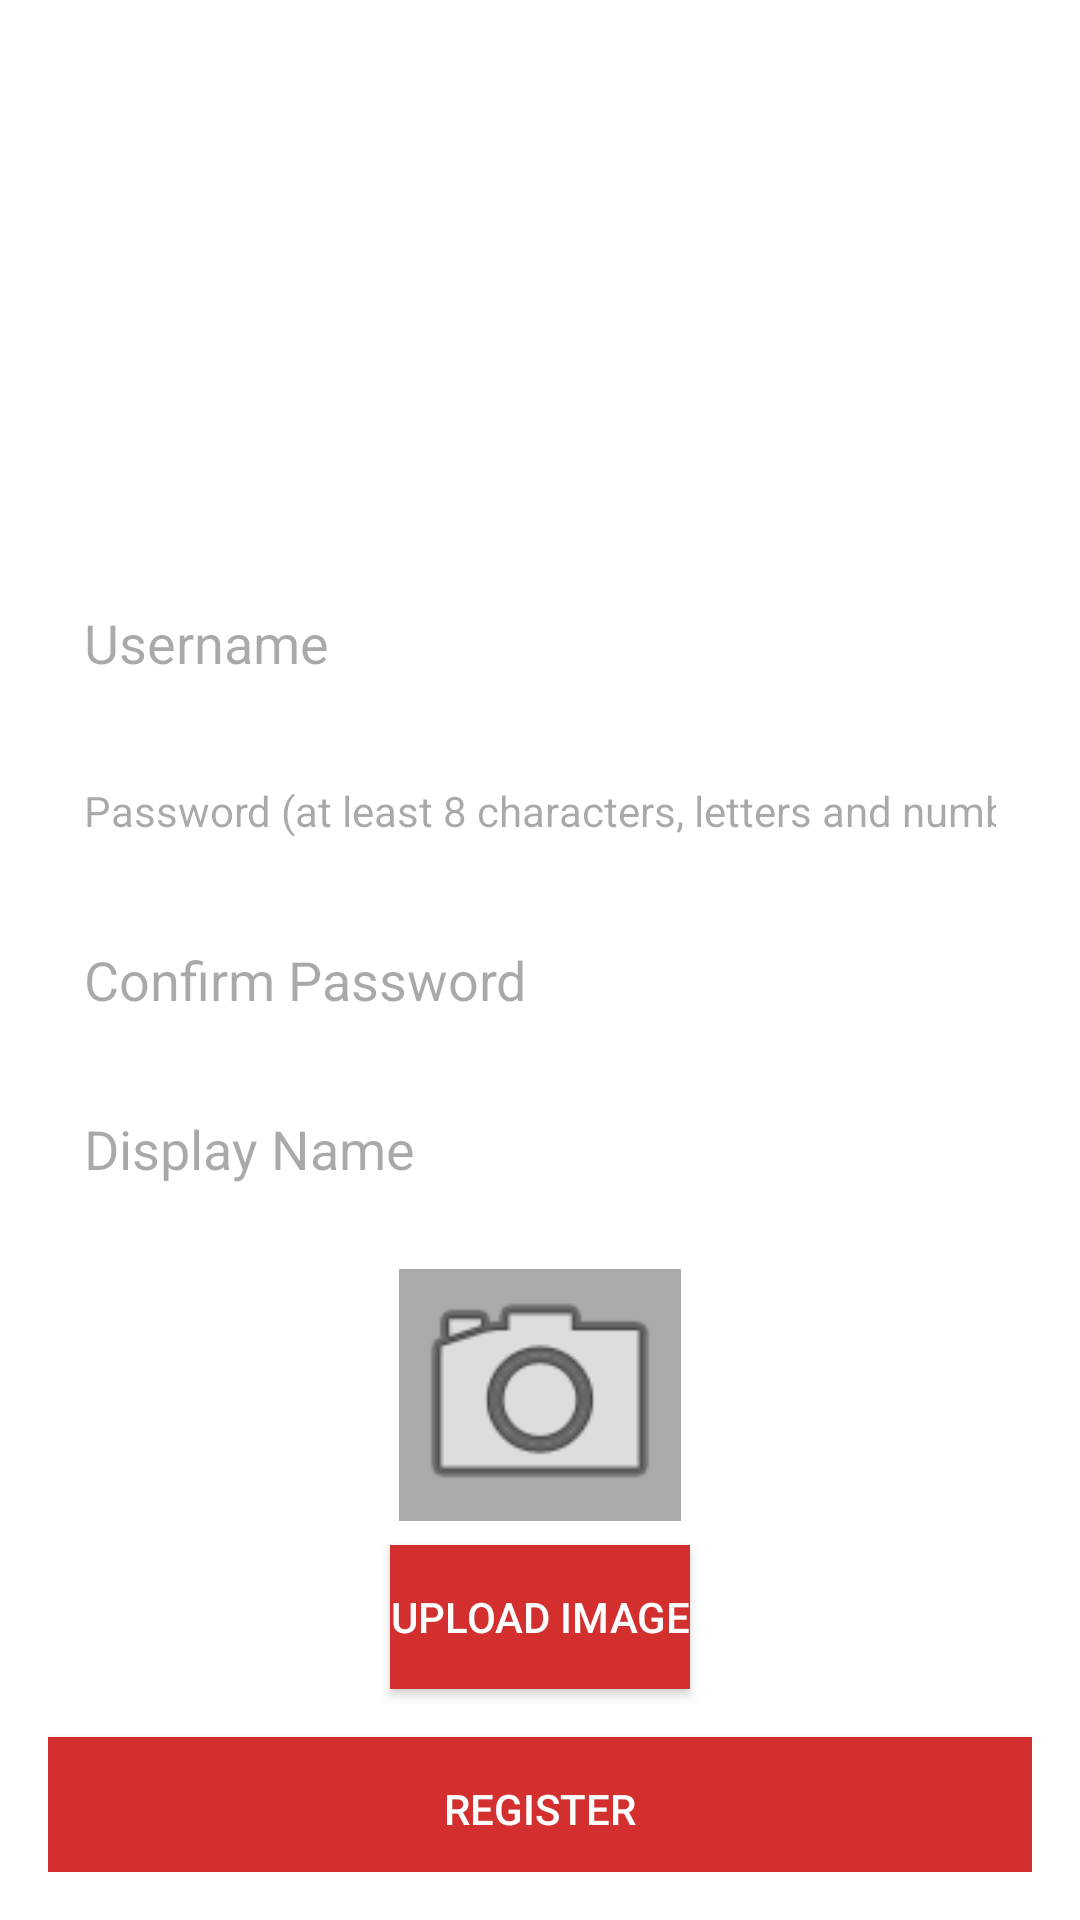

Icon bounding boxes for this 1080px×1920px phone screenshot, format (x1, y1, x2, y2):
Profile Image: (399, 1269, 681, 1521)
